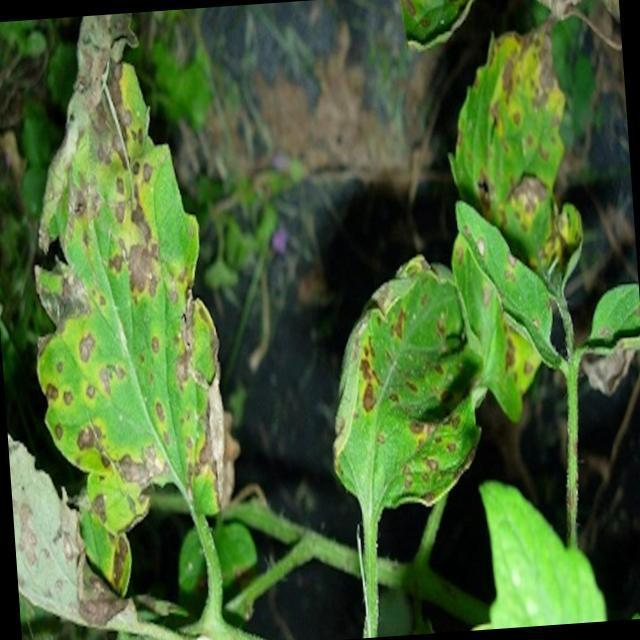Septoria: (23, 41, 225, 502), (356, 302, 472, 497), (461, 224, 546, 342)
